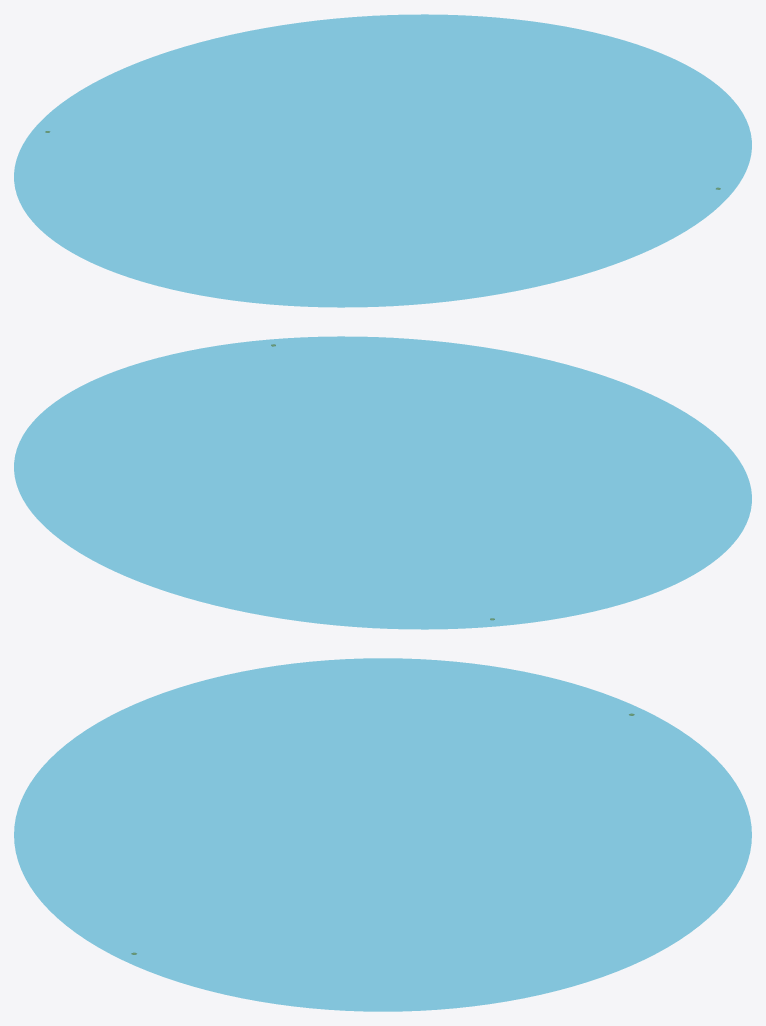
File: TUV-terrain.glb
The picture shows the model from 3 angles, top to bottom: view 1: azimuth 30°, elevation 25°; view 2: azimuth 150°, elevation 25°; view 3: azimuth 270°, elevation 25°; orthographic projection. The views are drawn at different scales.
Visible parts, largest first — view 1: Relevo com hidrografia; view 2: Relevo com hidrografia; view 3: Relevo com hidrografia.
Boxes of the visible parts, bbox=[...] form: Relevo com hidrografia: bbox=[14, 14, 751, 307]; Relevo com hidrografia: bbox=[14, 336, 751, 629]; Relevo com hidrografia: bbox=[14, 658, 751, 1011].
Size of the model in its own units: 2.21 by 0.00205 by 1.95.
2 materials, 1 textured.
